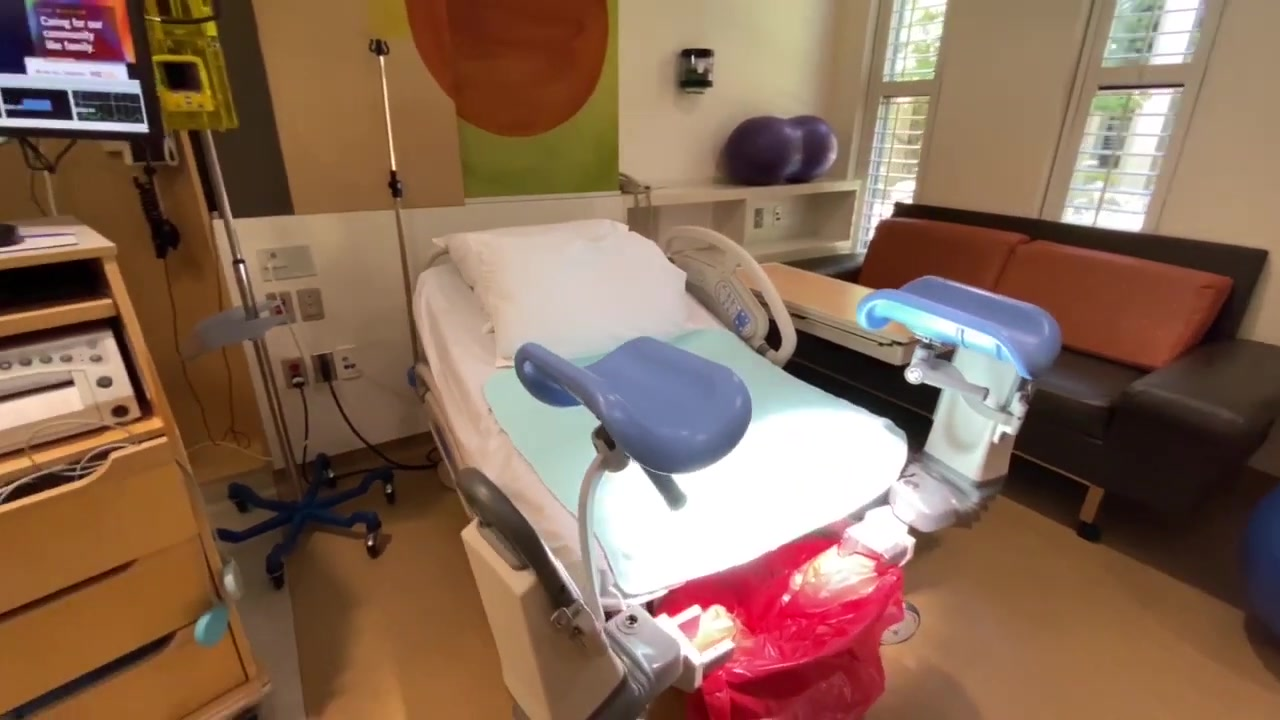bedrail: (658, 224, 798, 369)
computer: (1, 1, 160, 140)
drawer: (1, 211, 268, 720)
hospital_bed: (408, 221, 909, 720)
iv_pole: (192, 2, 313, 499), (364, 36, 415, 367)
overbed_table: (735, 261, 909, 367)
sofa: (854, 198, 1280, 526)
waste_bin: (636, 531, 886, 720)
